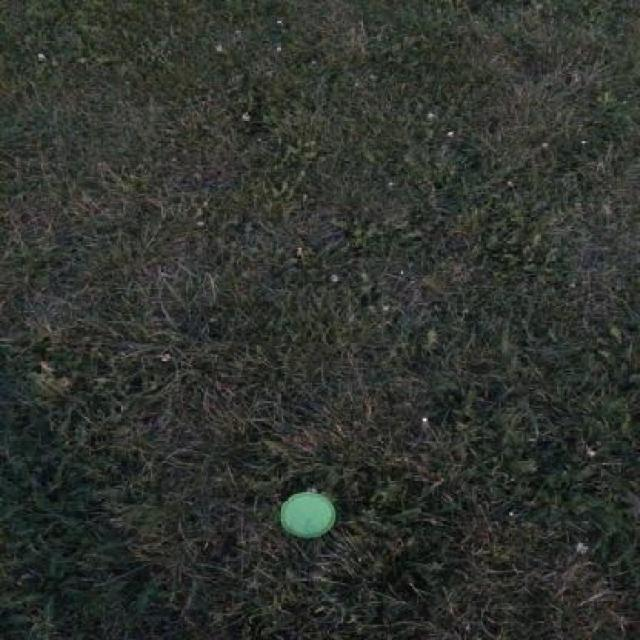Garbage: (279, 493, 336, 539)
